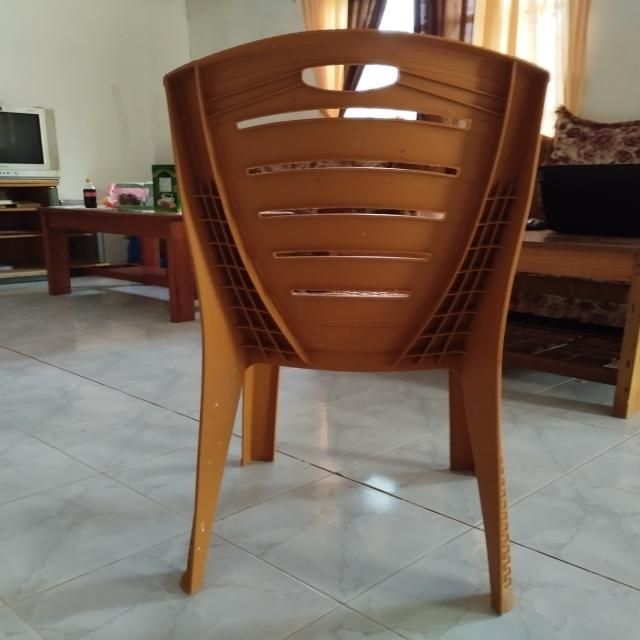chair: (129, 2, 590, 613)
